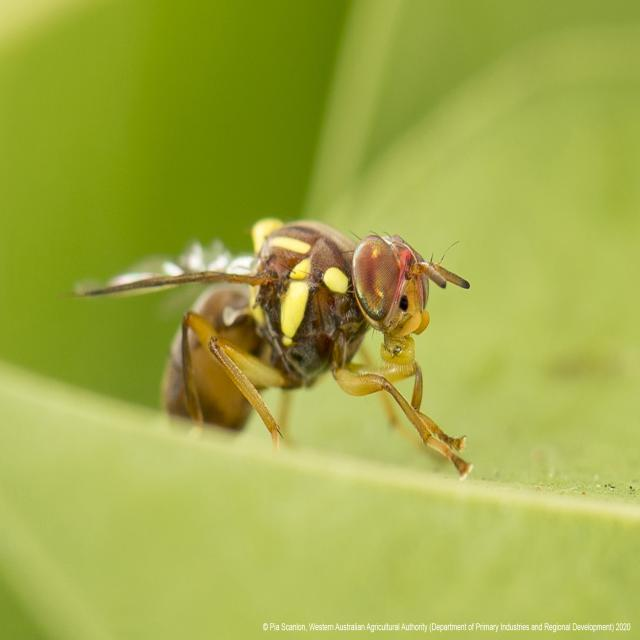Fruit fly: (55, 206, 484, 489)
